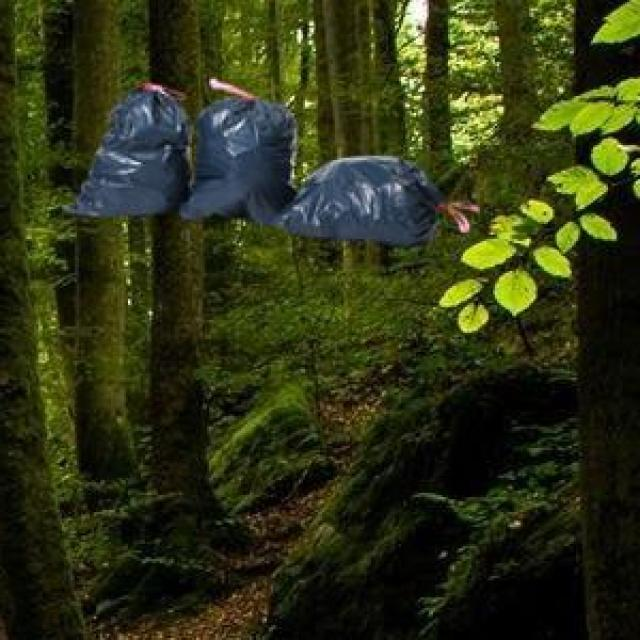Trashbag: (71, 83, 193, 225), (186, 96, 298, 232), (293, 151, 440, 251)
